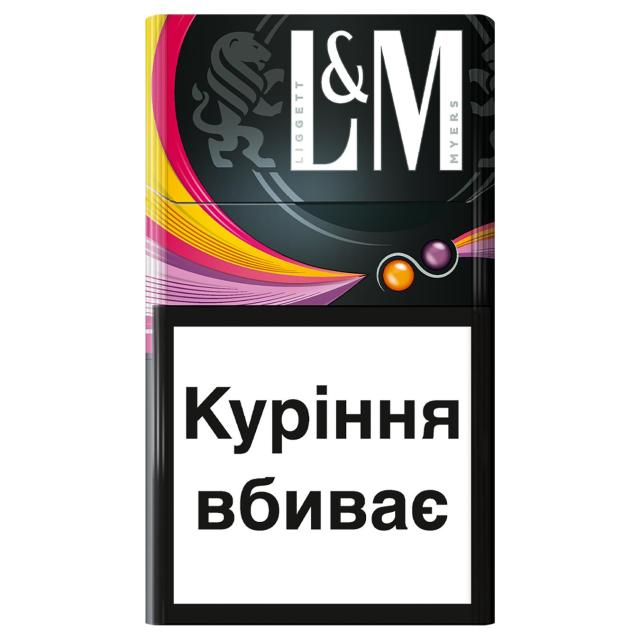lm: (125, 0, 513, 633)
